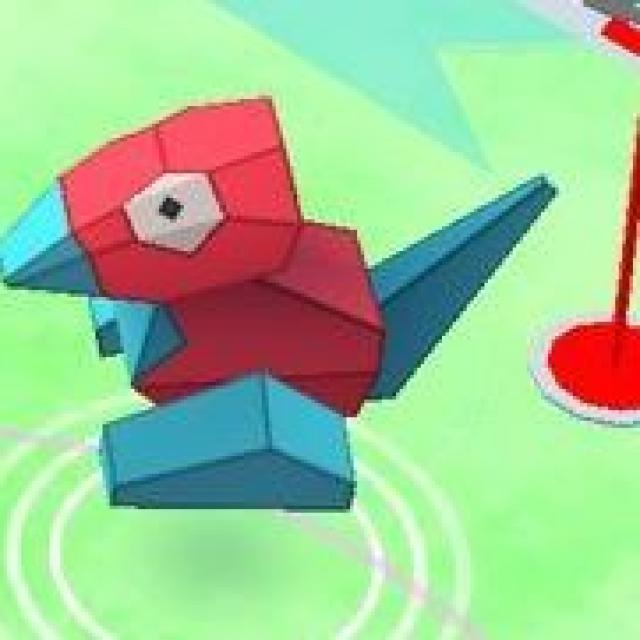Porygon: (42, 99, 526, 507)
